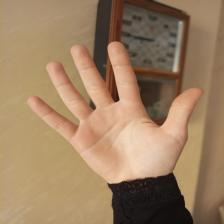five: (8, 36, 217, 189)
